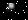person: (7, 5, 16, 17)
